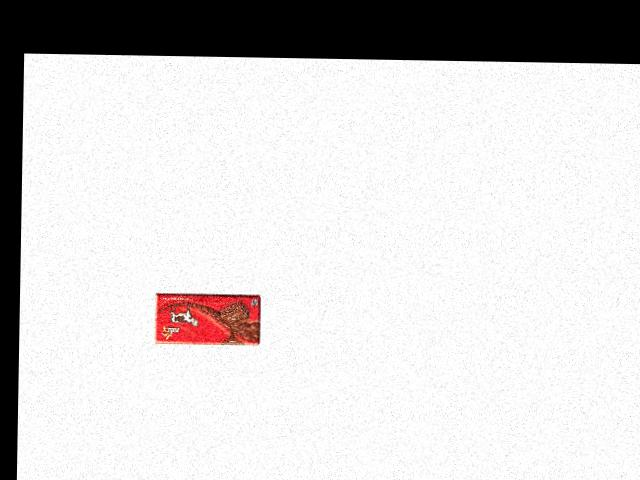chocolate: (150, 287, 263, 347)
